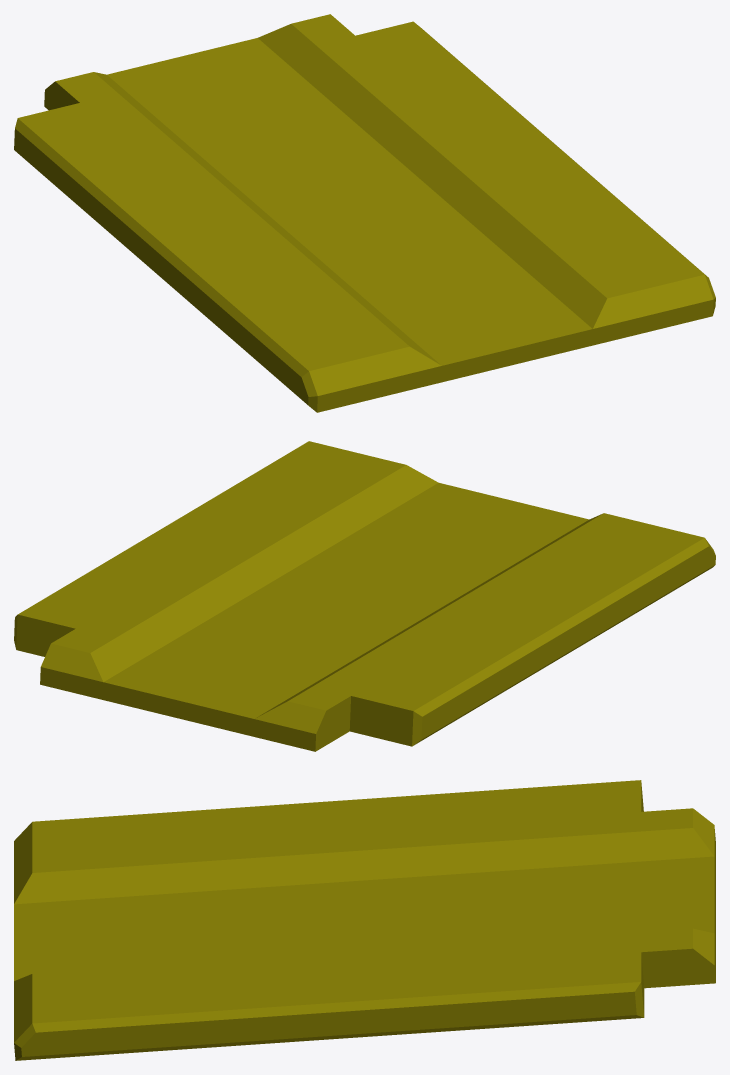
The model's file is mesh_DumpsterLidL_v2.fbx.
The picture shows the model from 3 angles, top to bottom: view 1: azimuth 30°, elevation 25°; view 2: azimuth 150°, elevation 25°; view 3: azimuth 270°, elevation 25°; orthographic projection. The views are drawn at different scales.
Visible parts, largest first — view 1: mesh_DumpsterLidL_v2_0; view 2: mesh_DumpsterLidL_v2_0; view 3: mesh_DumpsterLidL_v2_0.
Part boxes in pixels (x1,y1,x2,y2): mesh_DumpsterLidL_v2_0: [14, 14, 715, 412]; mesh_DumpsterLidL_v2_0: [14, 441, 715, 751]; mesh_DumpsterLidL_v2_0: [14, 780, 715, 1060].
Bounding box in the file's own units: 79.45 × 14.72 × 113.
